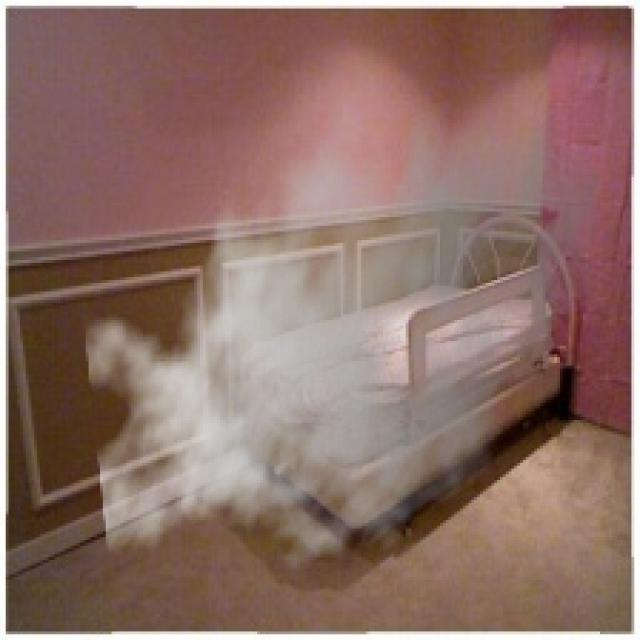smoke: (83, 54, 608, 589)
